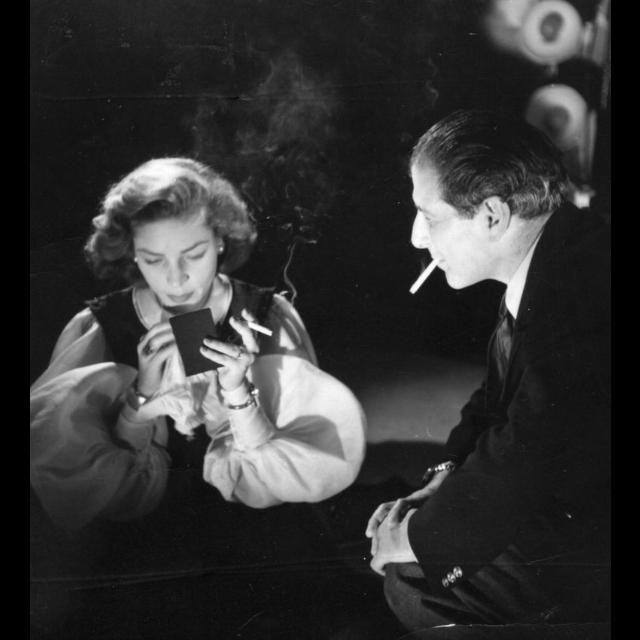rokok: (402, 254, 442, 294), (246, 317, 272, 341)
